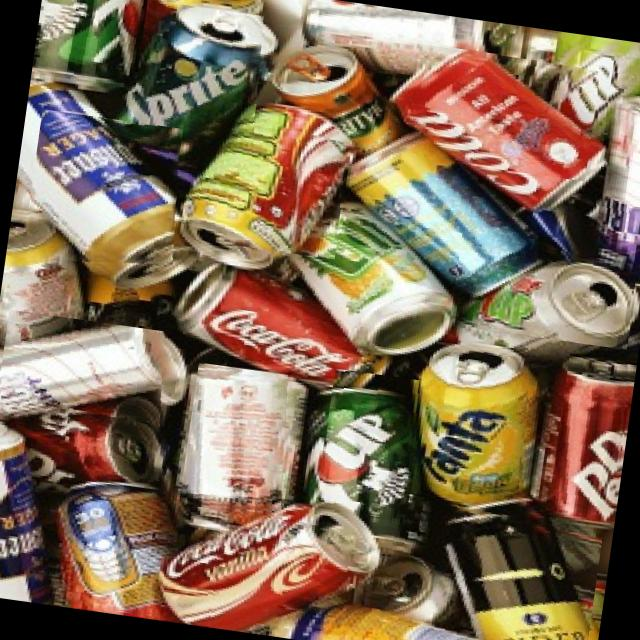Cans: (367, 489, 605, 640), (22, 108, 192, 280), (404, 41, 601, 180), (180, 105, 354, 259), (175, 505, 355, 640), (0, 308, 172, 445), (123, 0, 269, 141), (463, 235, 640, 349), (302, 212, 462, 334), (179, 362, 300, 520), (54, 477, 177, 618), (316, 368, 426, 521), (432, 347, 537, 498), (550, 352, 638, 508), (38, 0, 152, 91), (590, 52, 640, 235), (62, 407, 175, 481)
